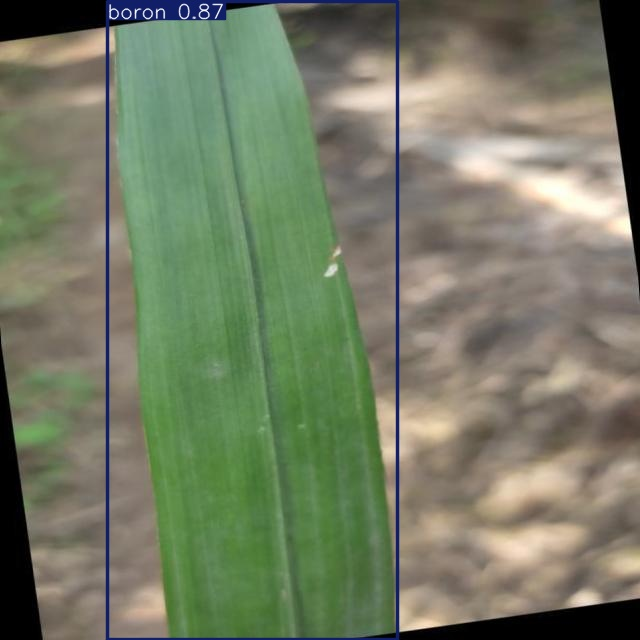nitrogen: (107, 2, 397, 640)
